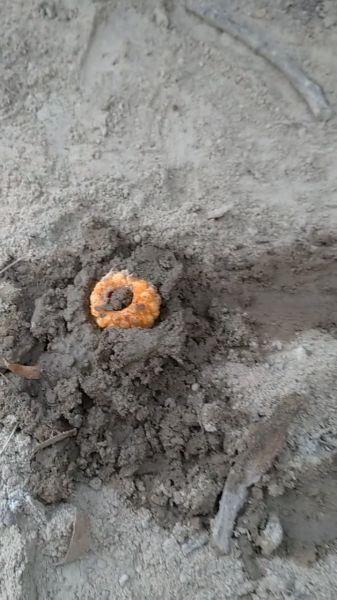eggs: (82, 264, 169, 335)
